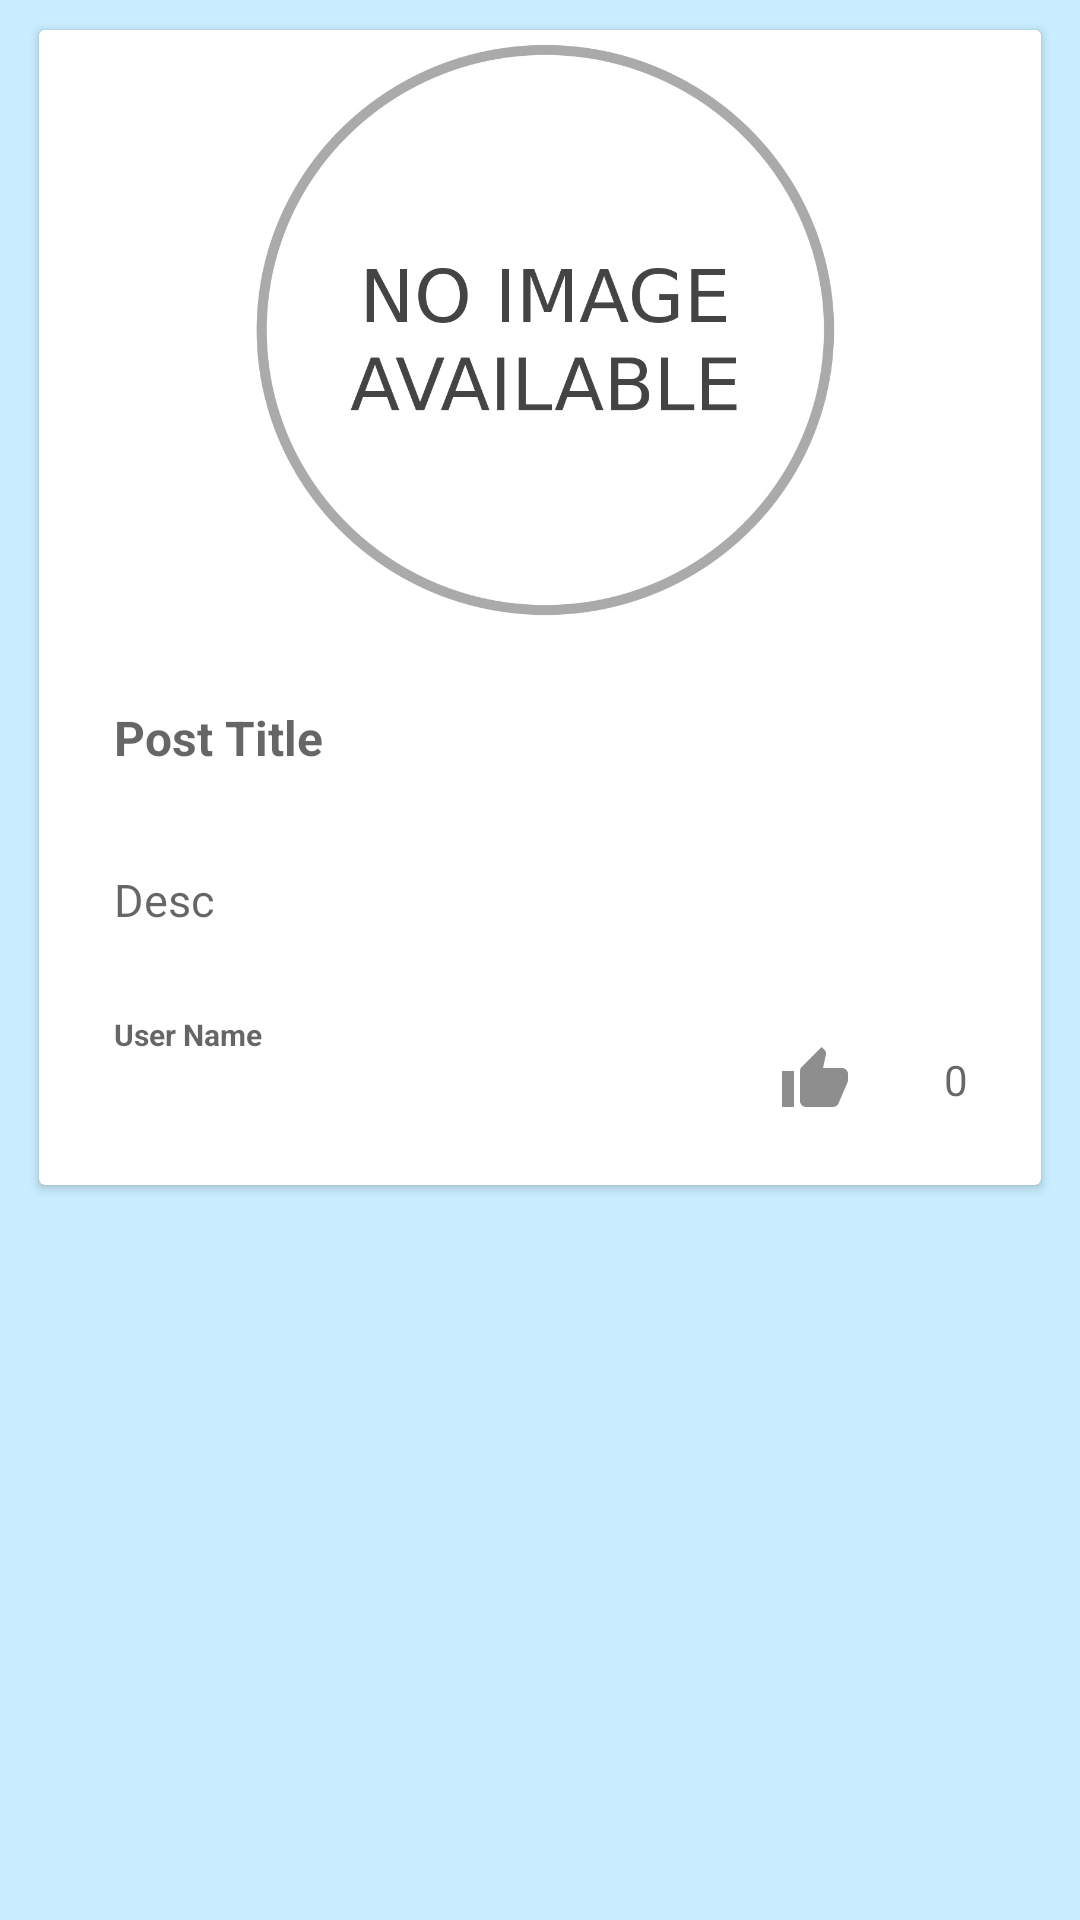

Icons on this 1080px×1920px Android screen, each with its box as (x1, y1, x2, y2):
unlike: (782, 1047, 848, 1107)
